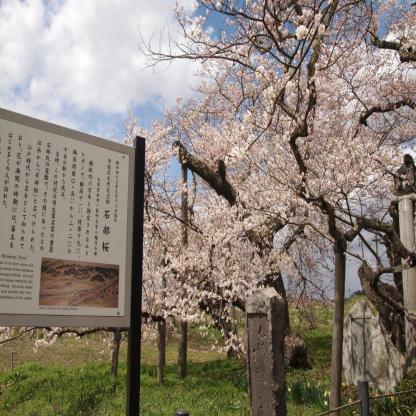Someiyoshino: (143, 2, 414, 335)
